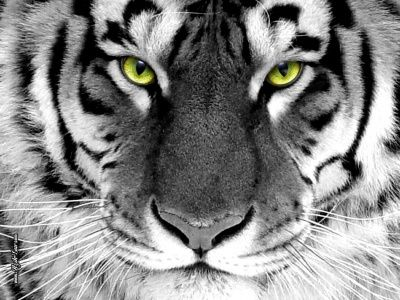Tigrew: (16, 6, 372, 291)
